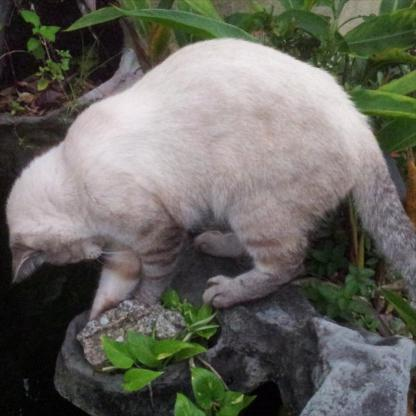Cat: (6, 36, 414, 320)
